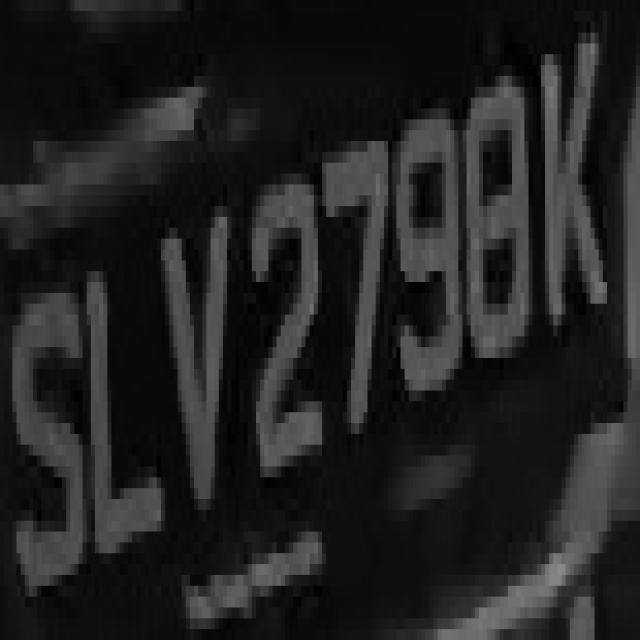2: (236, 163, 326, 499)
7: (314, 130, 400, 434)
8: (446, 65, 533, 391)
9: (388, 108, 467, 445)
K: (537, 22, 607, 380)
L: (83, 238, 165, 586)
S: (8, 260, 83, 629)
V: (149, 184, 235, 554)
